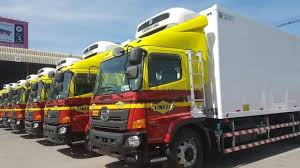truck: (87, 3, 253, 167)
